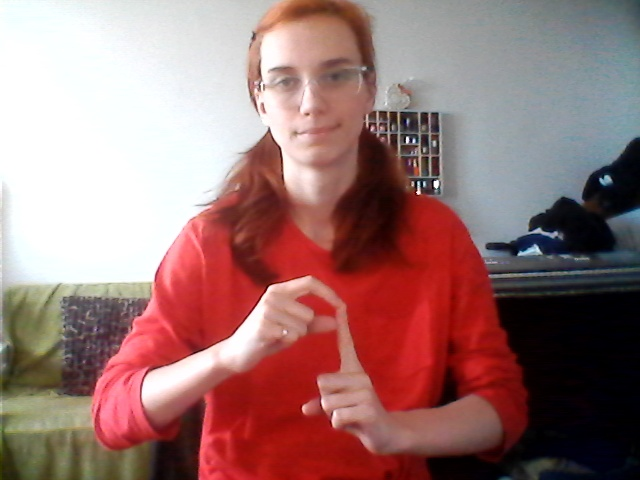p: (242, 275, 385, 457)
